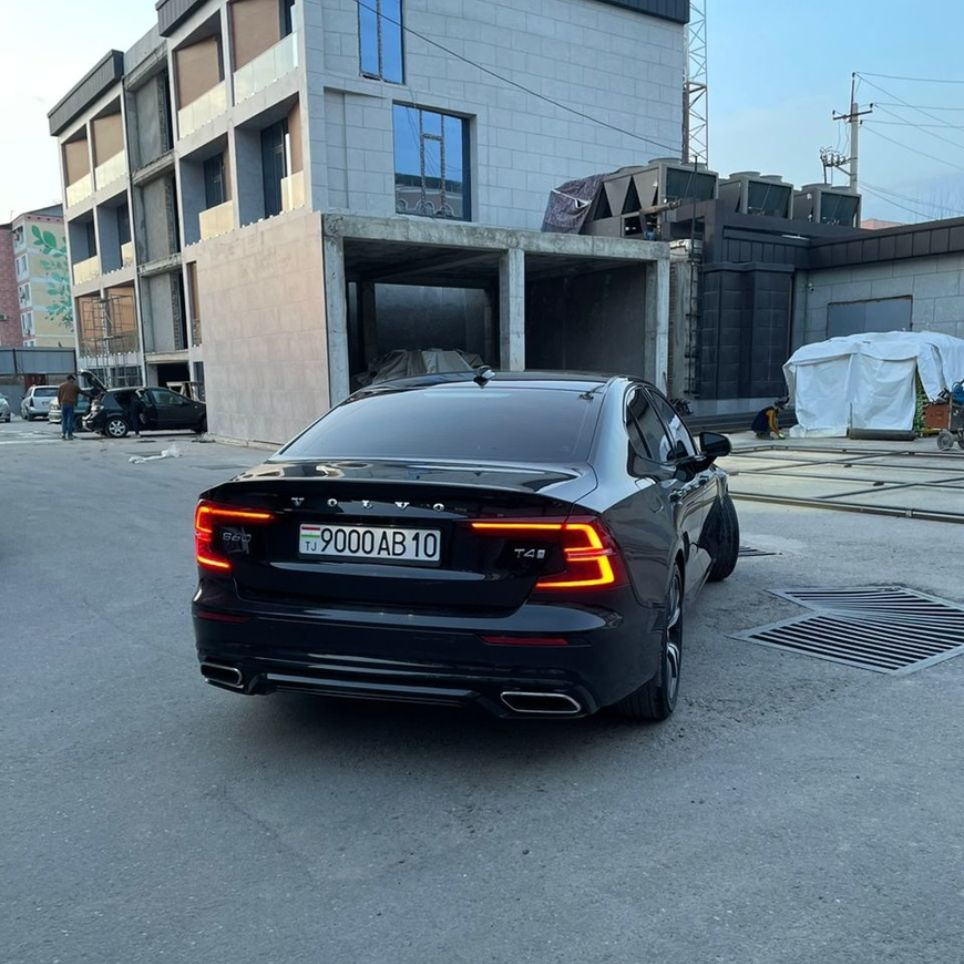license plate: (297, 518, 446, 562)
truck: (180, 362, 757, 749)
